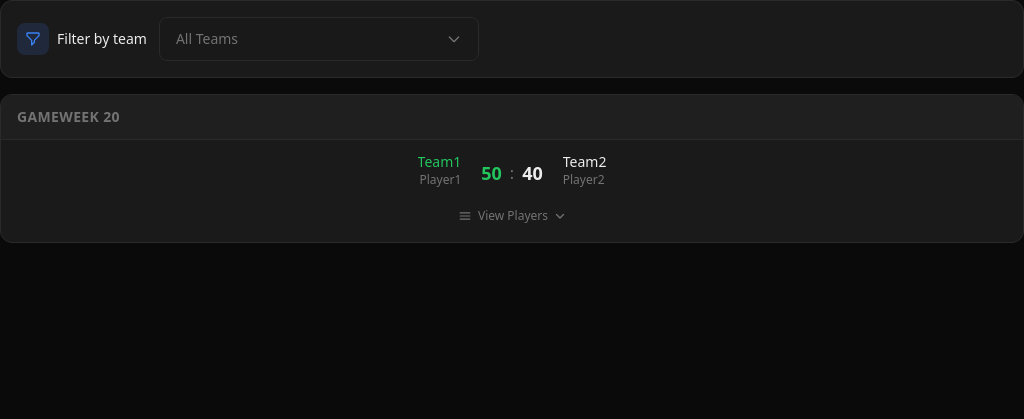
Test case: Results (expanded) › shows bench players in expanded breakdown
This screenshot has width=1024, height=419.
// Expand the match
Click the button "Team1 Player1 50 : 40 Team2 Player2 View Players": (526, 216) [418, 152, 606, 224]
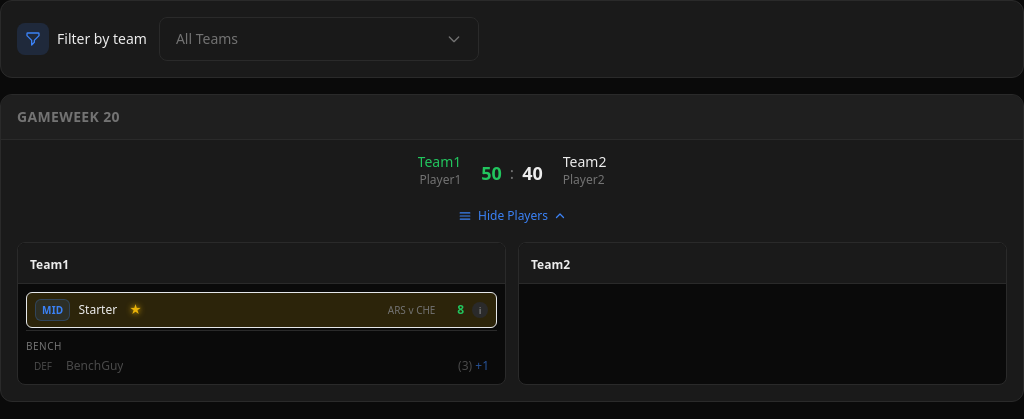
Now the text "Bench" is shown, box [26, 339, 62, 354]
Now the text "BenchGuy" is shown, box [66, 358, 123, 374]
Now the text "+1" is shown, box [472, 357, 489, 374]
